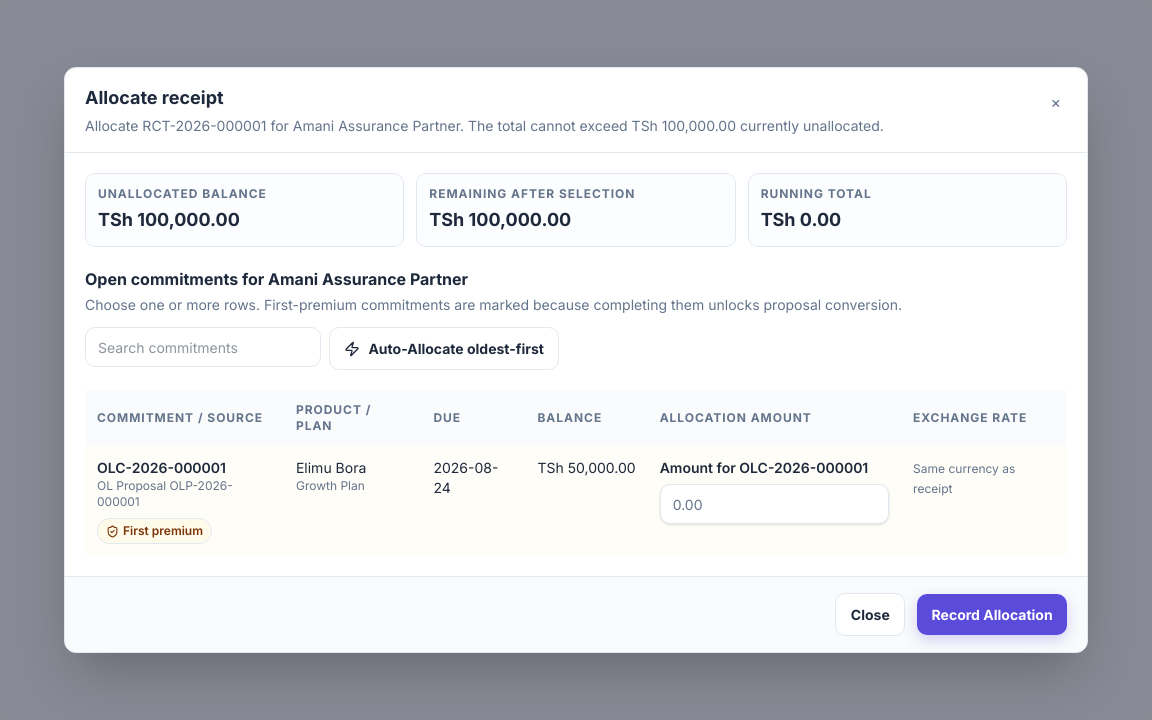
ReceiptAllocationModal Prompt 5 › blocks running total over-allocation before submitting
Type "120000" into the number field labelled "Amount for OLC-2026-000001" at (774, 504), box 660,484 -> 889,524
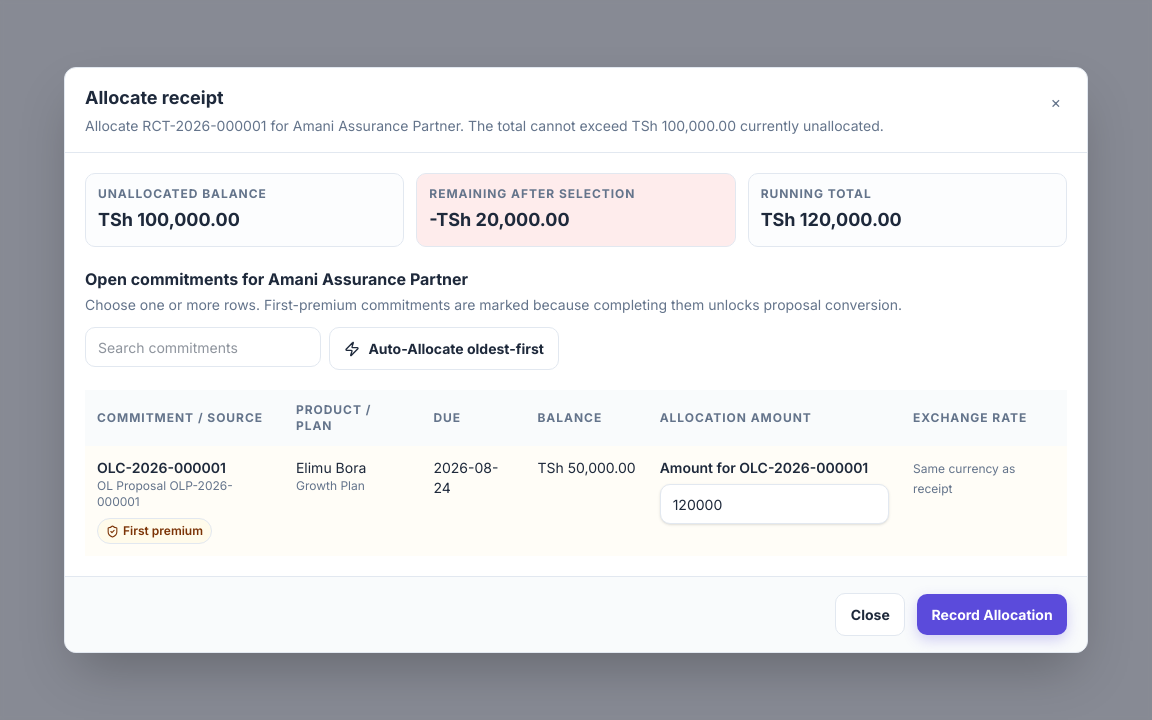
Click the button "Record Allocation" at (992, 614), box 917,594 -> 1067,635
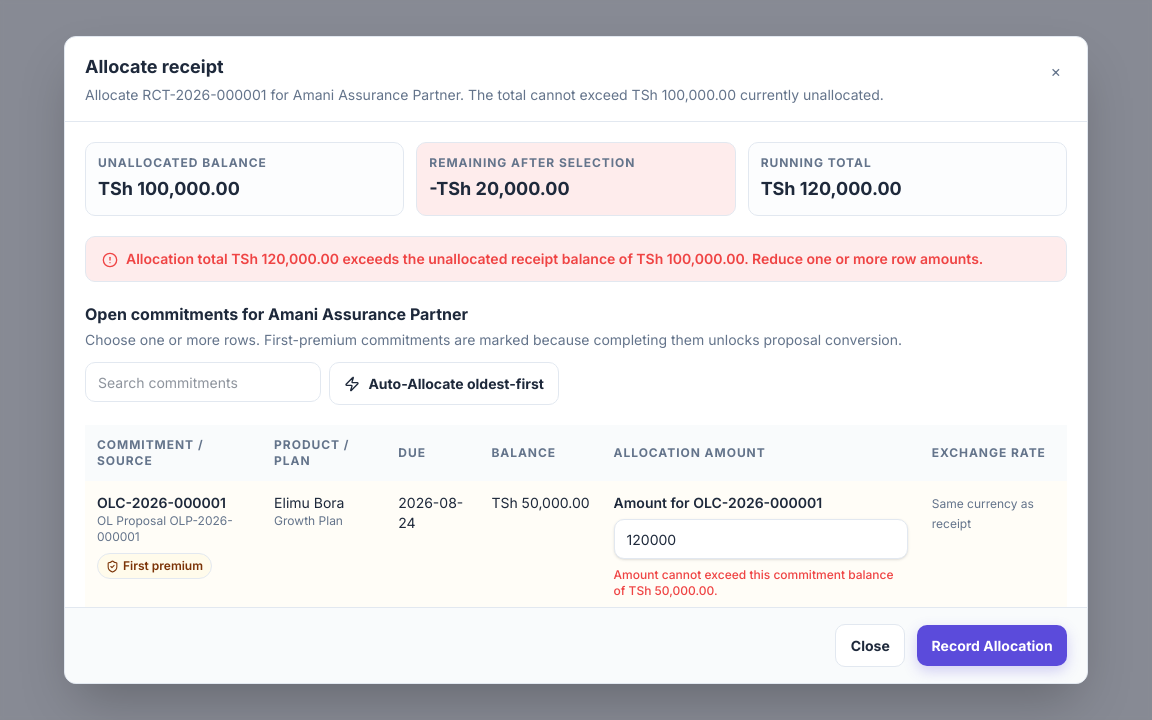
Result: the text "exceeds the unallocated receipt balance" is shown at 126,250 -> 983,267
